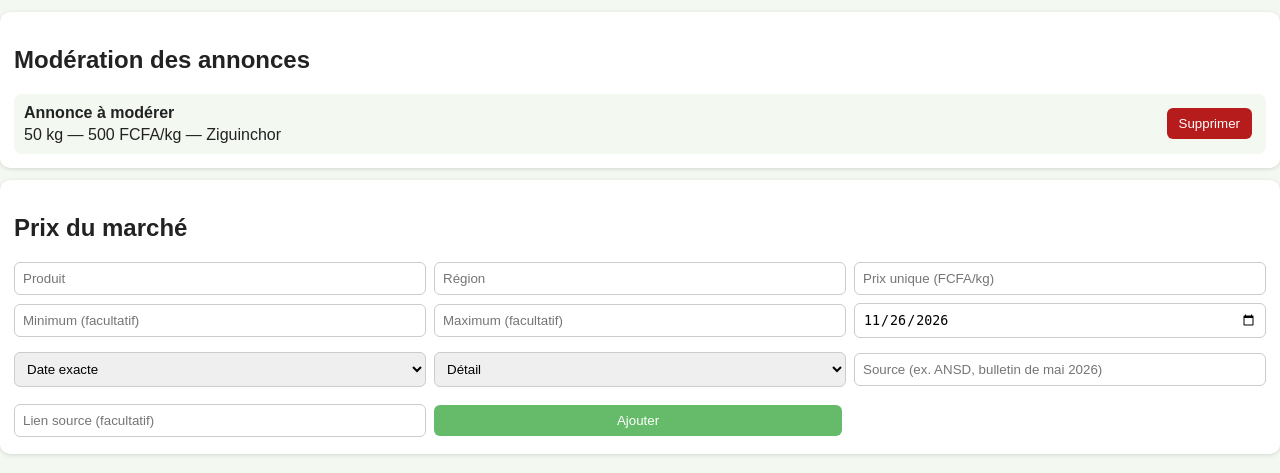
Test: Admin › permet à l'administrateur de supprimer une annonce
Expected: the text "Annonce à modérer" is shown, [24,104,174,121]
Click the button "Supprimer" at (1209,124), box [1166,108,1252,139]
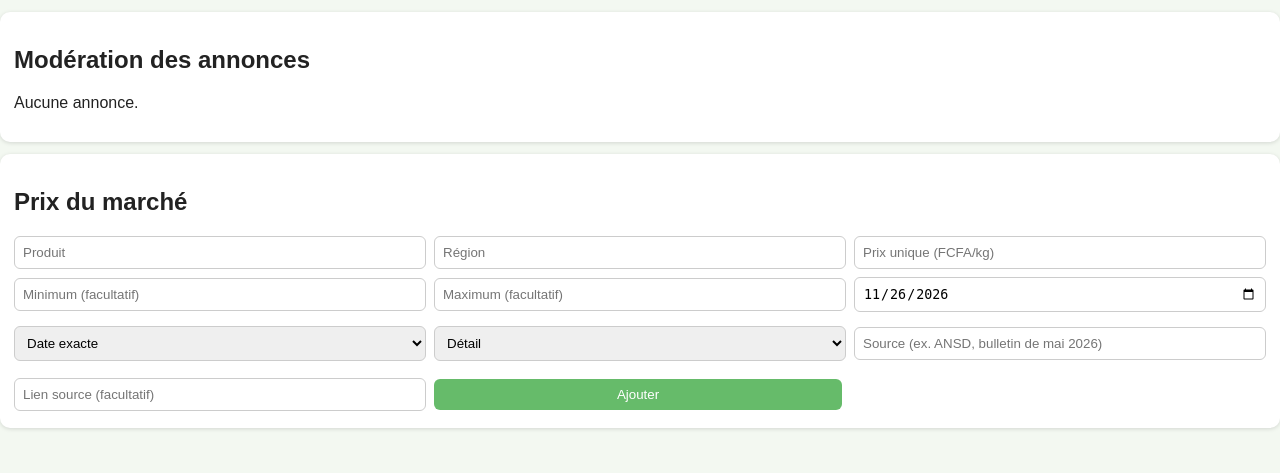
Now the text "Aucune annonce." is shown, box [14,94,138,111]
